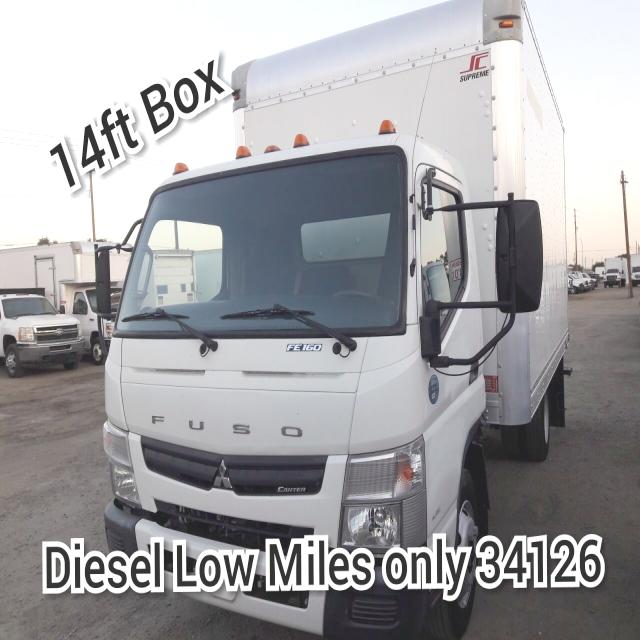truck: (103, 1, 566, 640)
